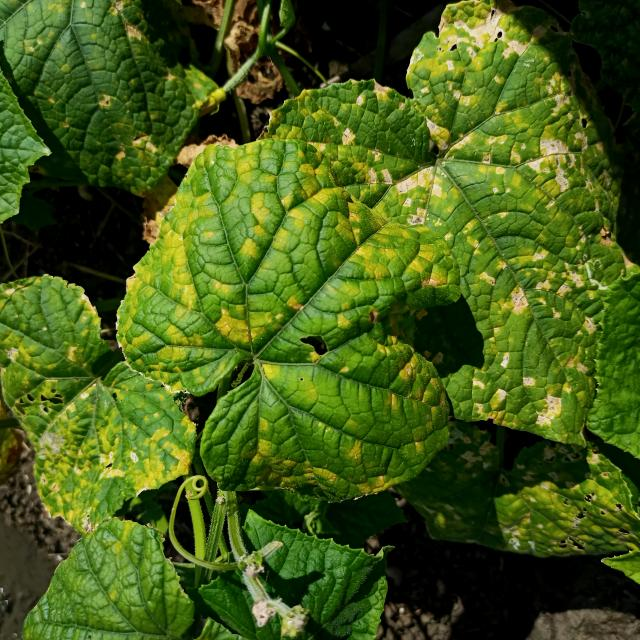disease_cucumber: (123, 144, 447, 496), (386, 9, 624, 414), (0, 295, 181, 525), (422, 421, 616, 547)
